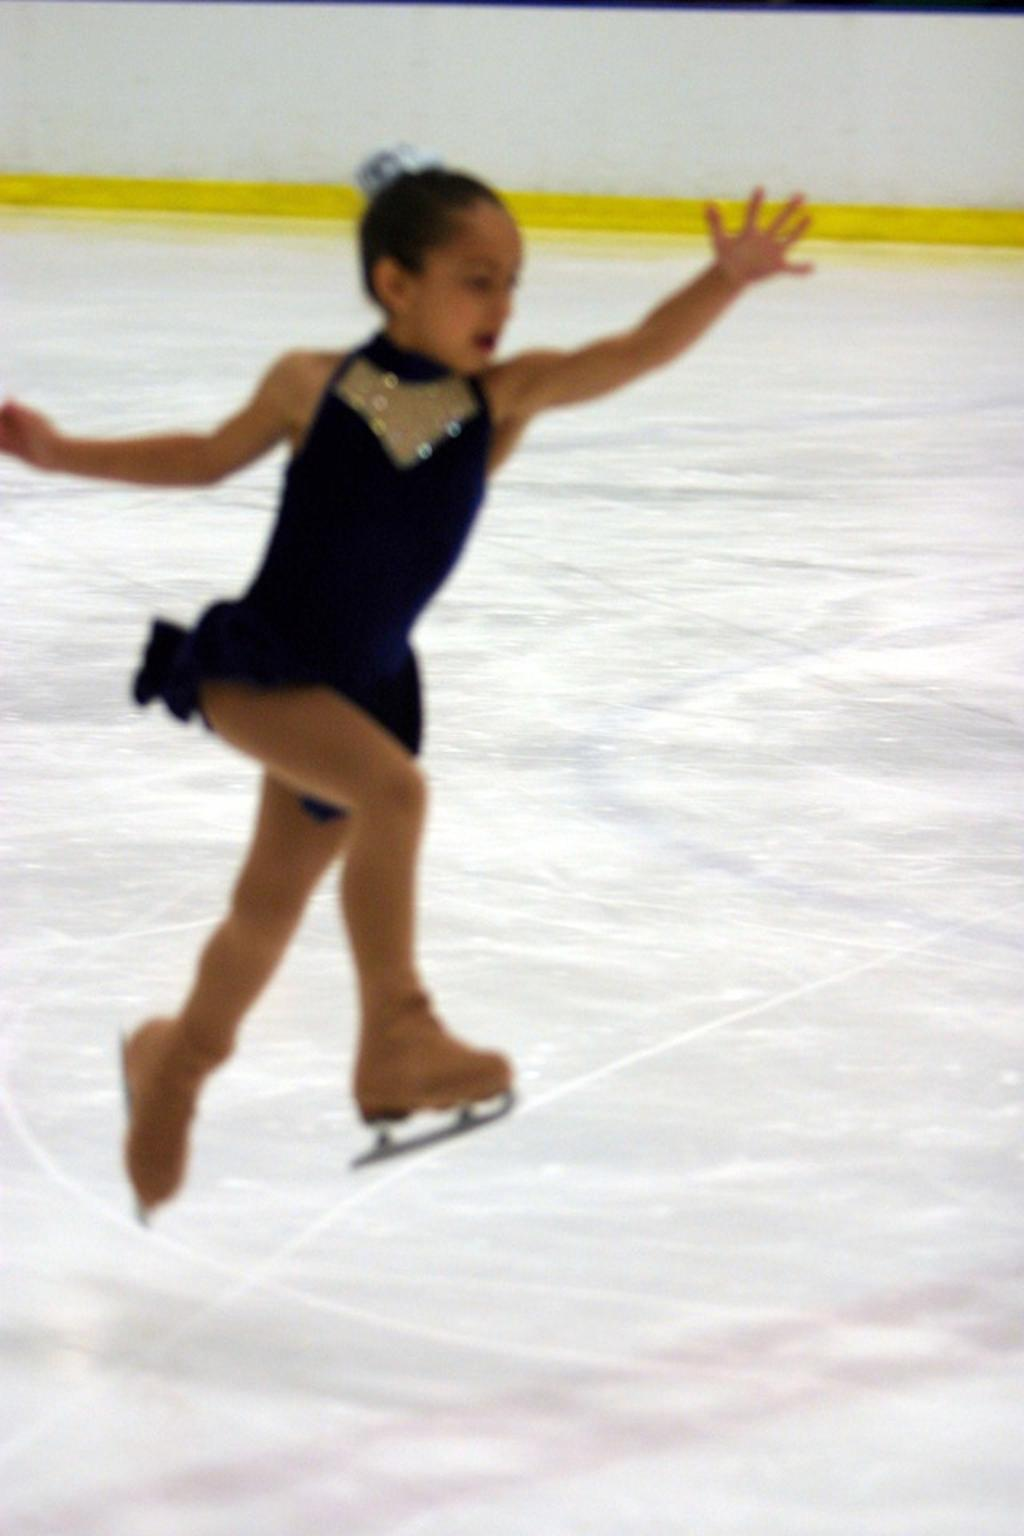face: (405, 201, 519, 366)
